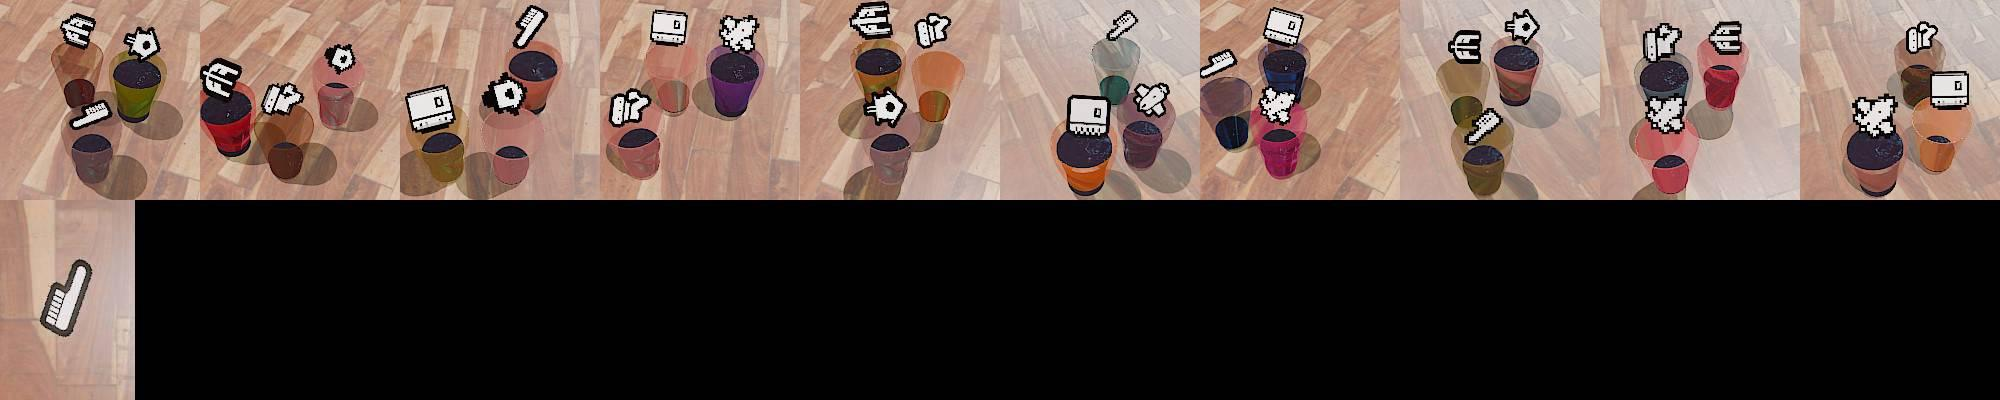icon: (38, 260, 93, 339), (404, 84, 457, 135), (1849, 93, 1898, 139), (482, 75, 529, 117), (1066, 94, 1110, 138), (1263, 6, 1306, 48), (1643, 20, 1684, 65), (862, 87, 907, 127), (200, 57, 242, 99), (1464, 107, 1505, 150), (717, 13, 760, 54), (1644, 93, 1686, 134), (848, 3, 893, 41), (608, 88, 652, 126), (260, 80, 305, 117), (1258, 85, 1298, 125), (513, 5, 548, 50), (649, 9, 689, 46), (1930, 71, 1969, 108), (69, 98, 112, 131), (1133, 82, 1172, 117), (915, 13, 952, 50), (125, 25, 162, 62), (60, 11, 96, 50), (1503, 9, 1540, 45), (1448, 28, 1482, 64), (1200, 47, 1236, 80), (1906, 22, 1940, 55), (1106, 8, 1138, 41), (324, 43, 356, 75), (1709, 22, 1742, 50)
